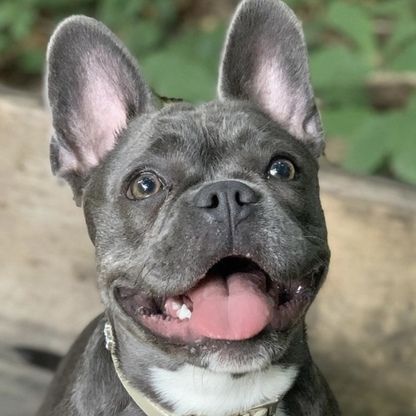bulldog: (36, 2, 350, 416)
